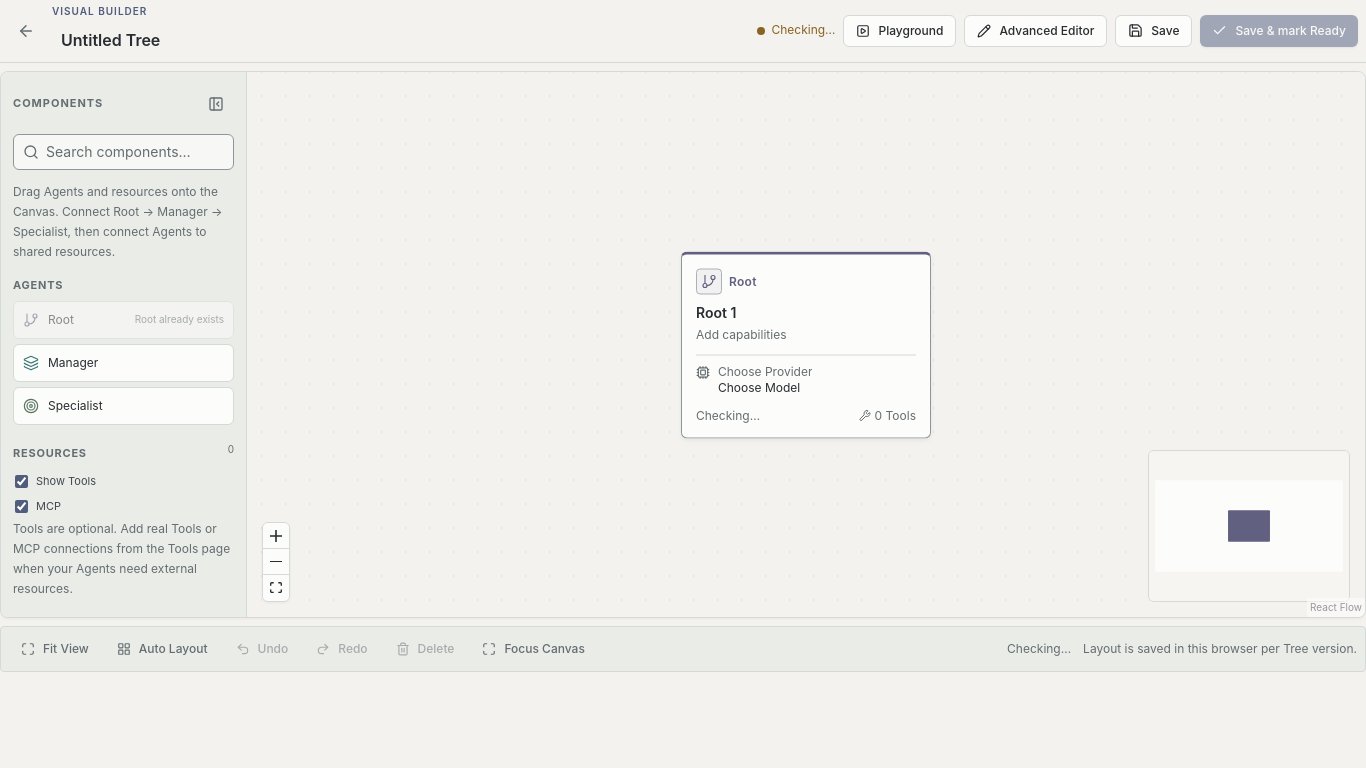
Test case: Builder integration › draft Save uses the existing version API and resets edit history
This screenshot has width=1366, height=768.
Check: the heading "Components" is shown, box [13,96,103,111]
Replace the text in the field named "Tree name" with "Updated": {"x": 244, "y": 40} [52,22,436,58]
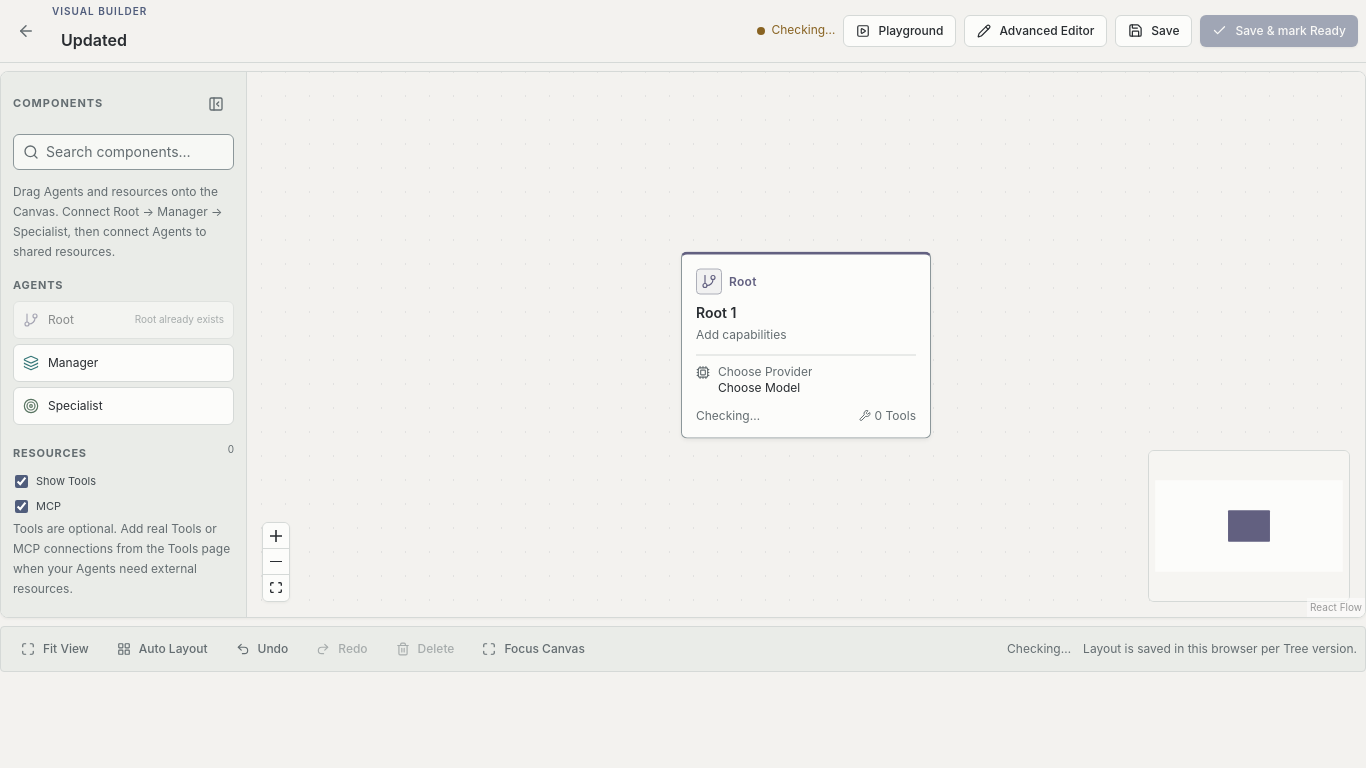
Click the button "Save": {"x": 1154, "y": 31} [1115,15,1192,47]
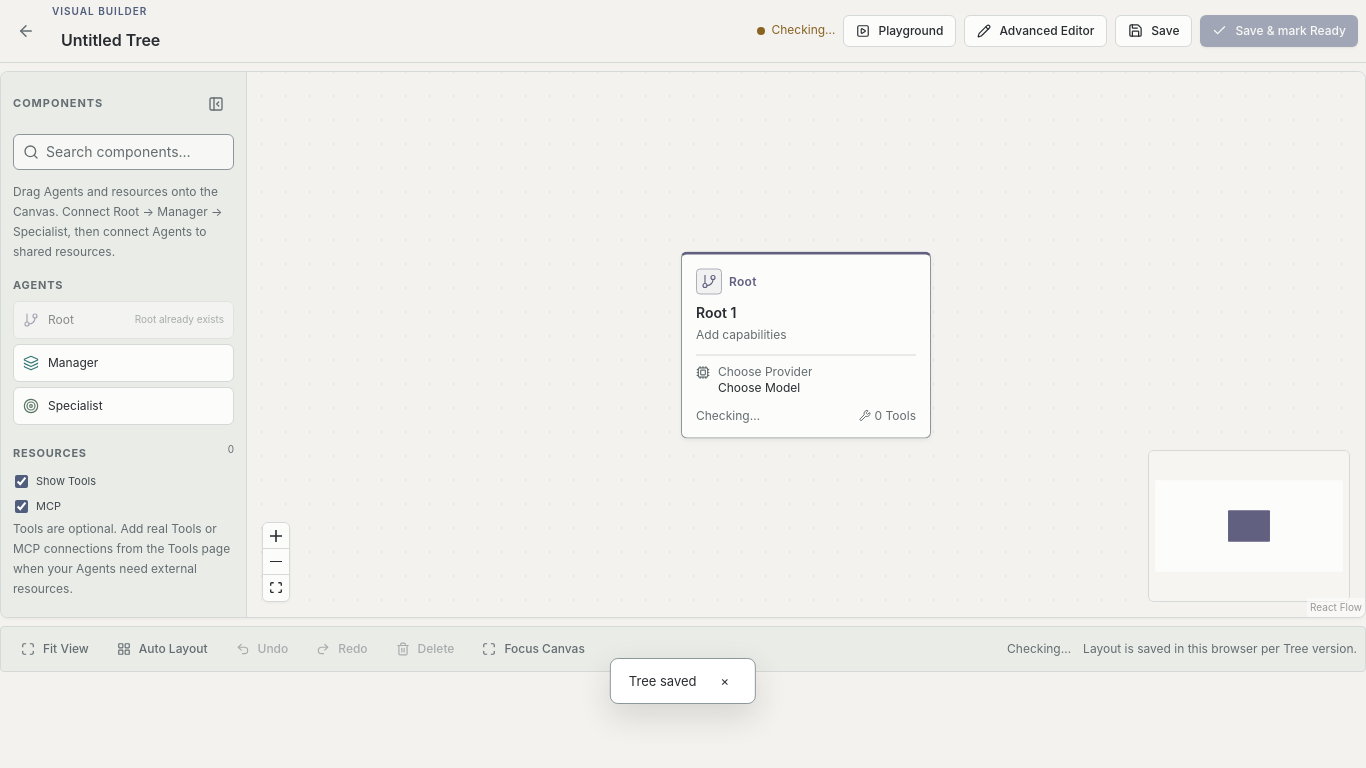
Check: the text "Tree saved" is shown, box [629,673,696,689]
Check: the button "Undo" is disabled, box [224,633,300,665]
